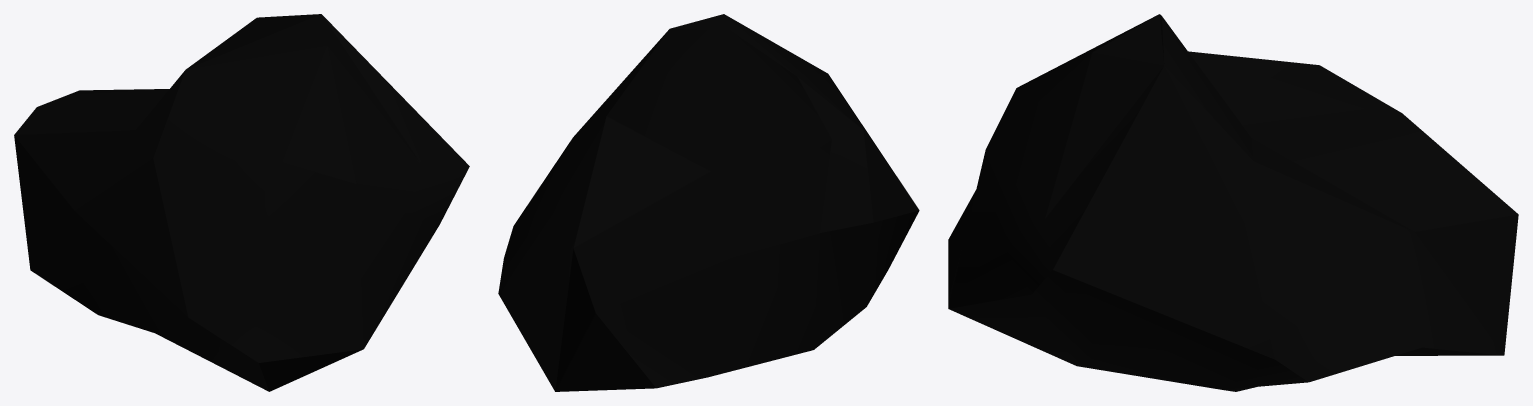
File: Rock_1b.fbx
3 renders of one model, left to right at view 1: azimuth 30°, elevation 25°; view 2: azimuth 150°, elevation 25°; view 3: azimuth 270°, elevation 25°, orthographic. The views are drawn at different scales.
Visible parts, largest first — view 1: Rock_1b; view 2: Rock_1b; view 3: Rock_1b.
Boxes of the visible parts, x1,y1,x2,y2 form: Rock_1b: [14, 14, 469, 391]; Rock_1b: [498, 14, 919, 391]; Rock_1b: [948, 14, 1518, 391].
Size of the model in its own units: 39.61 by 34.34 by 49.88.
1 material, 1 textured.
